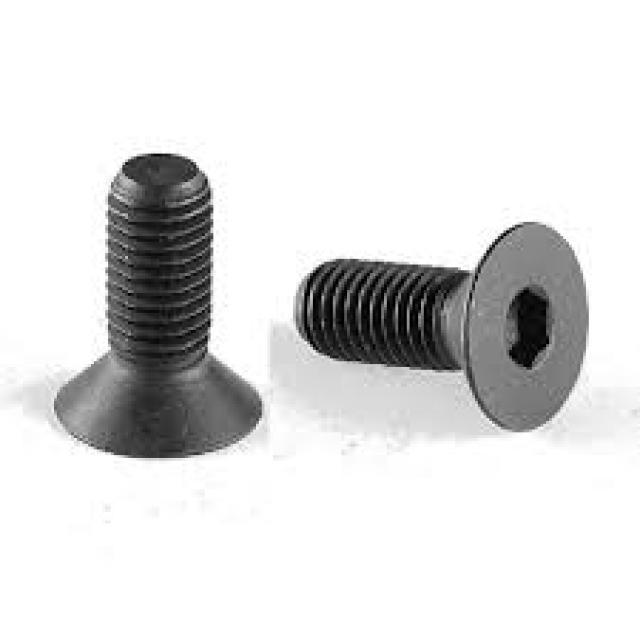allen: (466, 218, 592, 431)
